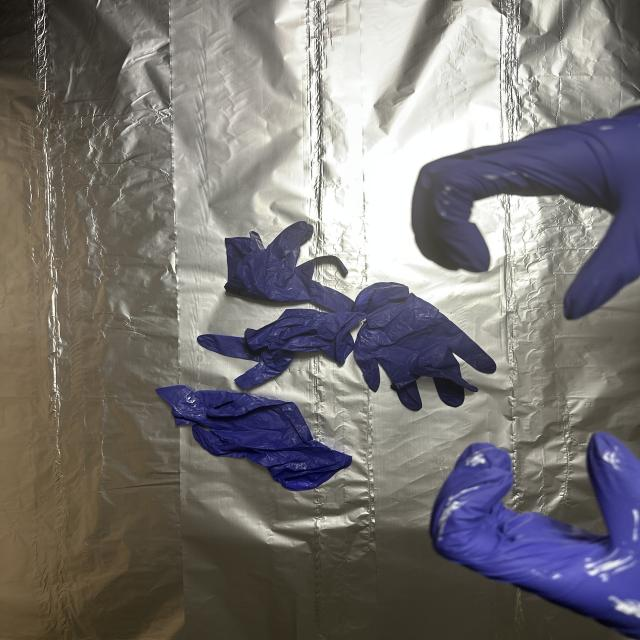gloves_contaminated: (412, 107, 640, 319), (430, 432, 640, 640)
